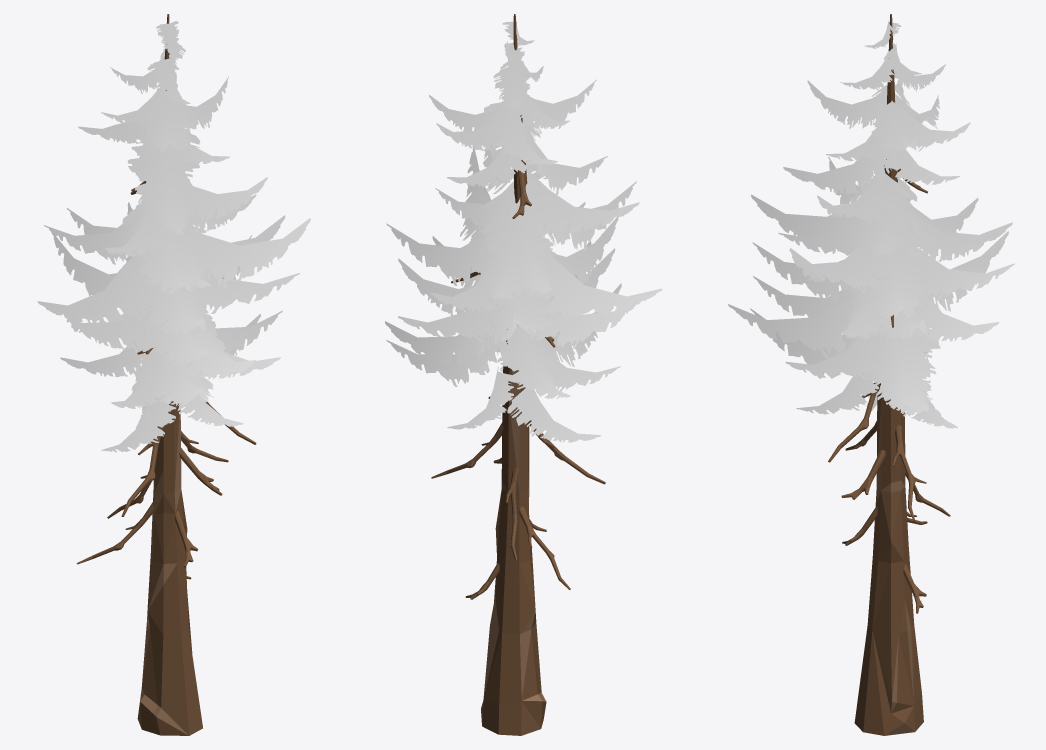
The model's file is mesh_tree_pine_03.fbx.
The picture shows the model from 3 angles, left to right: view 1: azimuth 30°, elevation 25°; view 2: azimuth 150°, elevation 25°; view 3: azimuth 270°, elevation 25°; orthographic projection.
Visible parts, largest first — view 1: mesh_tree_pine_03_leaves_LOD0, mesh_tree_pine_03_trunk_LOD0; view 2: mesh_tree_pine_03_leaves_LOD0, mesh_tree_pine_03_trunk_LOD0; view 3: mesh_tree_pine_03_leaves_LOD0, mesh_tree_pine_03_trunk_LOD0.
Boxes of the visible parts, <box> form: mesh_tree_pine_03_leaves_LOD0: <box>37,21,310,452</box>; mesh_tree_pine_03_trunk_LOD0: <box>76,14,256,735</box>; mesh_tree_pine_03_leaves_LOD0: <box>385,19,662,442</box>; mesh_tree_pine_03_trunk_LOD0: <box>431,14,605,735</box>; mesh_tree_pine_03_leaves_LOD0: <box>728,20,1014,428</box>; mesh_tree_pine_03_trunk_LOD0: <box>828,14,950,735</box>.
Size of what is drawn, in the model's own units: 5.8 by 13.63 by 5.6.
